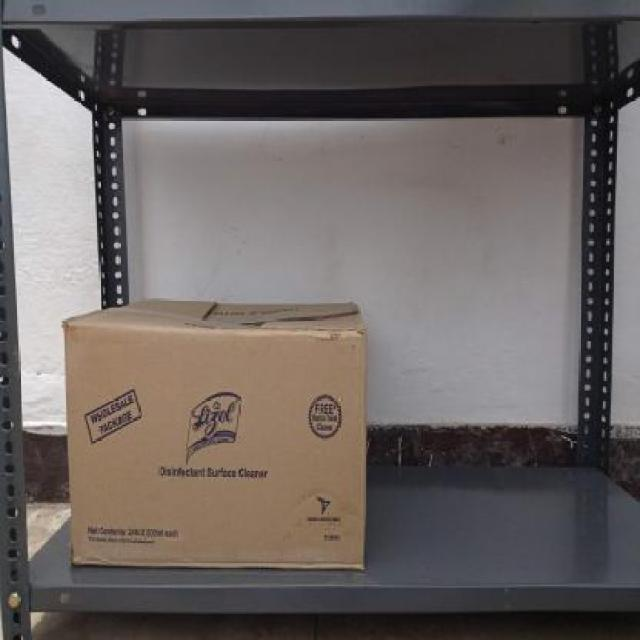box: (64, 324, 370, 568)
